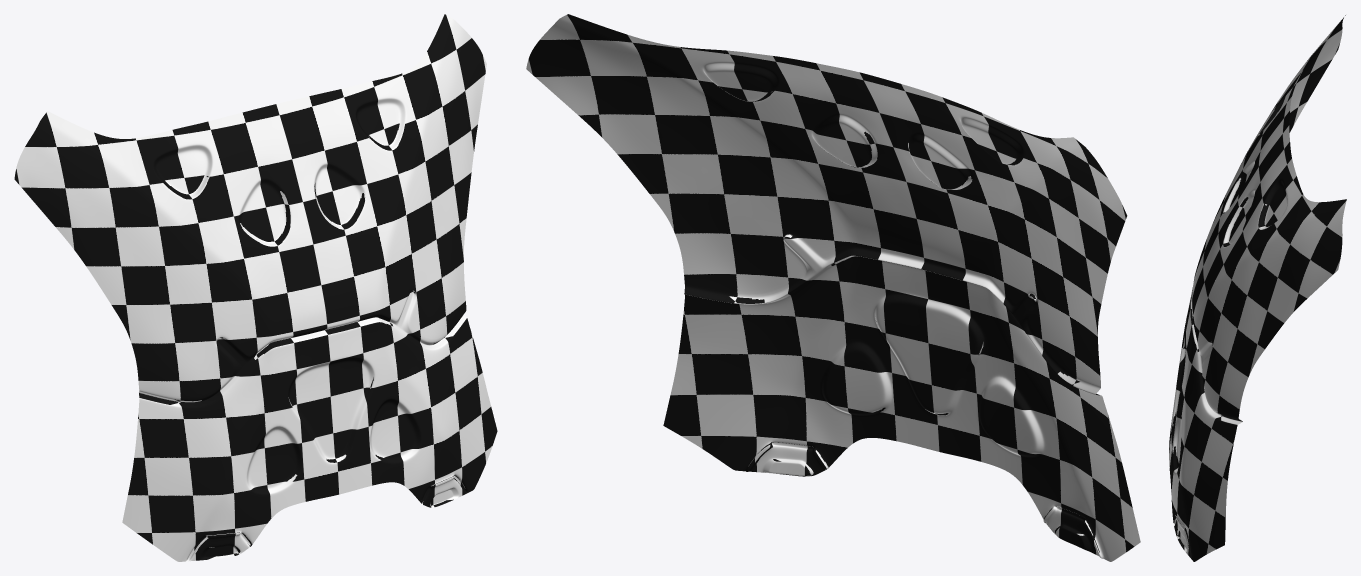
3 views of the same model, side by side, from view 1: azimuth 30°, elevation 25°; view 2: azimuth 150°, elevation 25°; view 3: azimuth 270°, elevation 25° (orthographic). The views are drawn at different scales.
Visible parts, largest first — view 1: Box002; view 2: Box002; view 3: Box002.
Boxes of the visible parts, box(x1,y1,x2,y2) form: Box002: box(14, 14, 497, 561); Box002: box(526, 14, 1140, 561); Box002: box(1169, 15, 1346, 561).
Size of the model in its own units: 142 by 116 by 48.41.
Materials: 1 (1 with a texture image).
